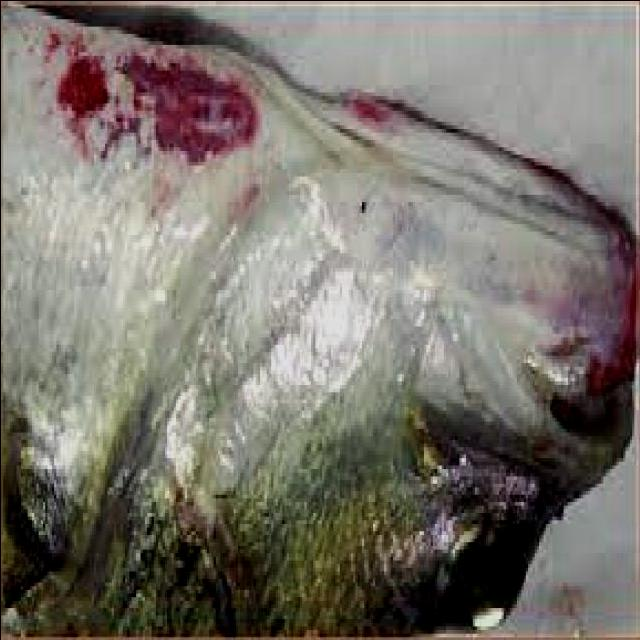EUS Disease: (0, 5, 635, 635), (7, 0, 638, 409)
